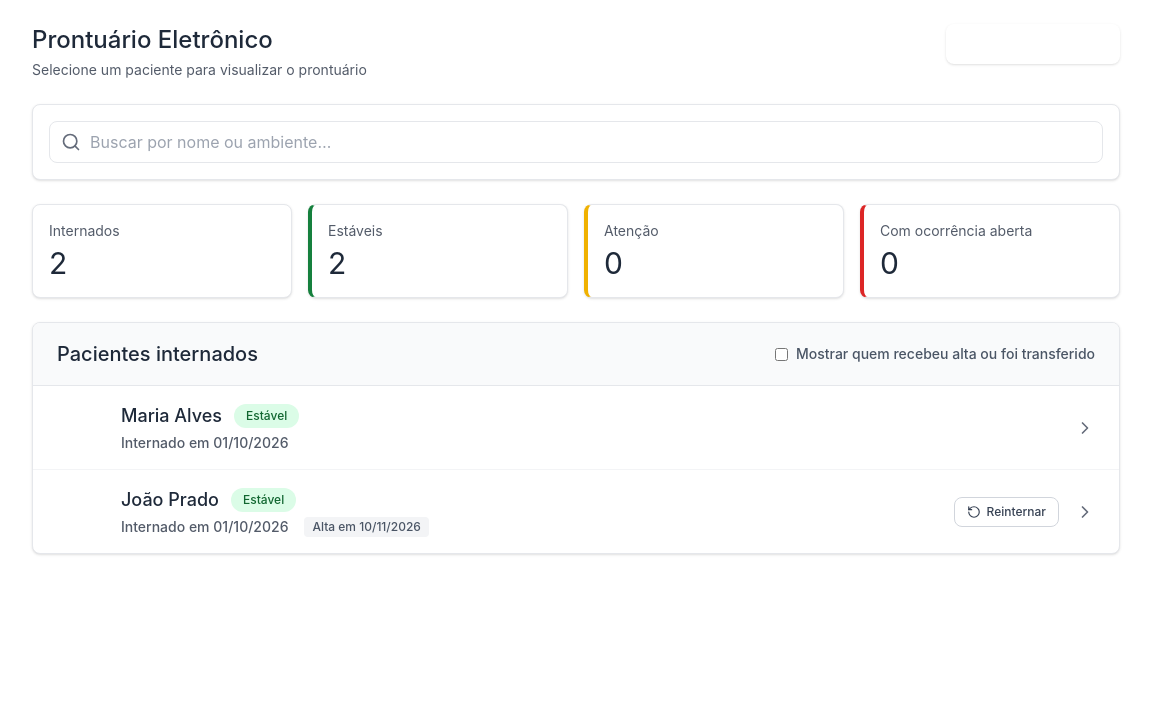
Test: Lista de prontuários: reinternar › a API recusar: avisa na tela
Expected: the heading "João Prado" is shown, [121, 486, 219, 513]
Click the button "Reinternar" at (1006, 512), box [954, 496, 1059, 526]
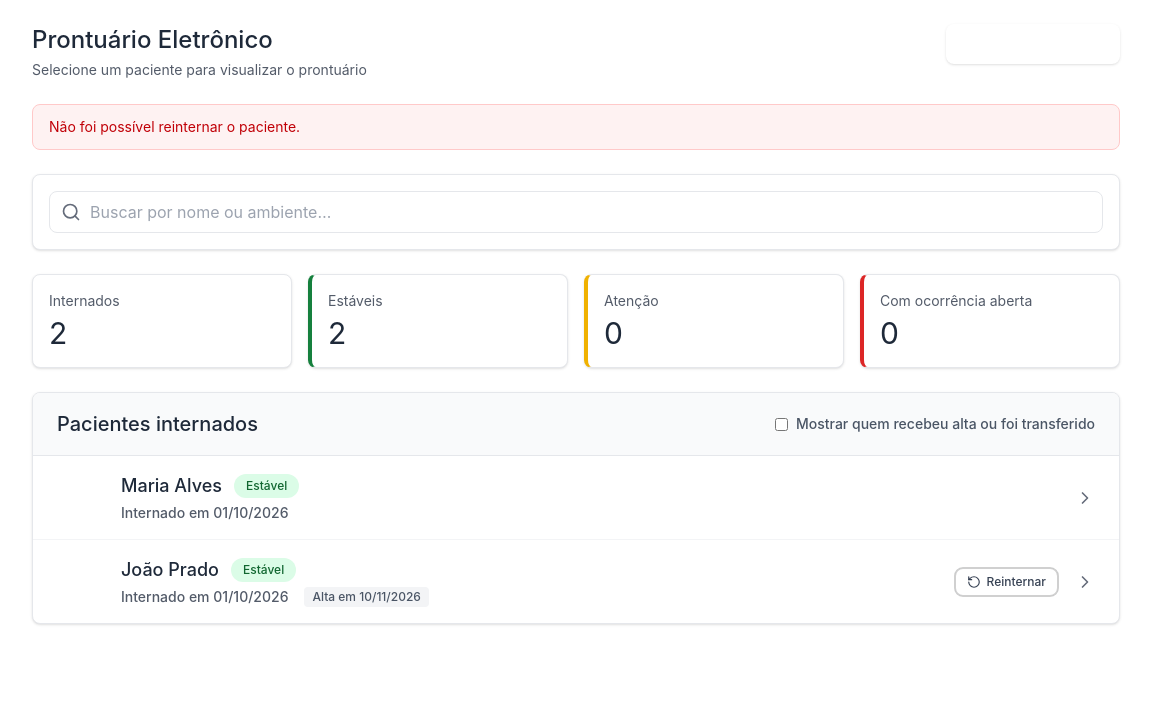
Now the message reads "Não foi possível reinternar o paciente.", box [49, 118, 300, 135]
